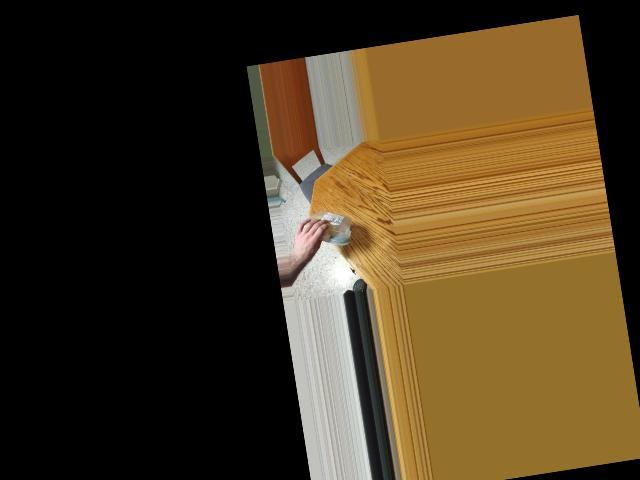cheese: (308, 210, 348, 245)
